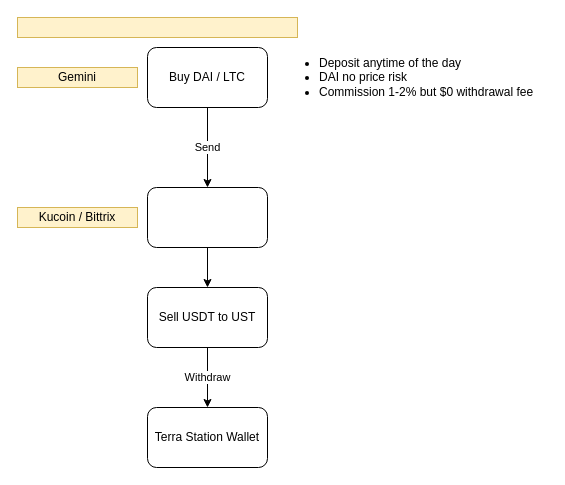
Some shapes in this 565 by 485 pixel diagram are drawn without their labels. Each missing label, with the centre of its shape:
How to buy UST from Gemini: point 157,27
Sell ZIL / DAI / LTC to USDT: point 207,217
